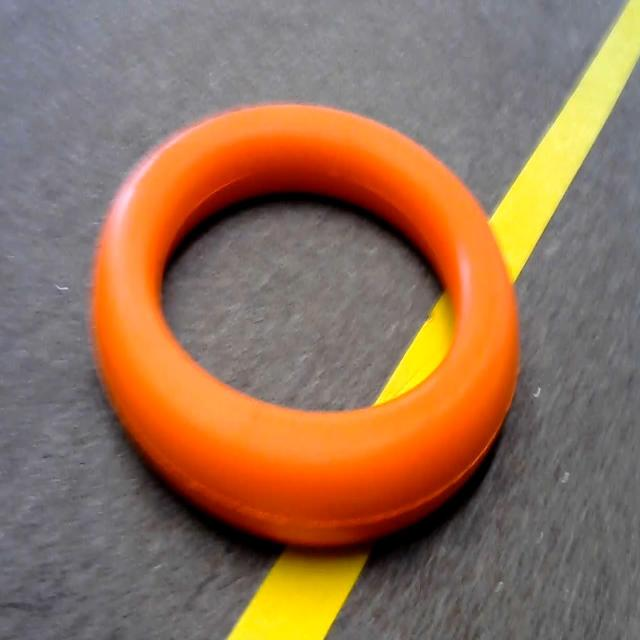note: (66, 69, 534, 554)
